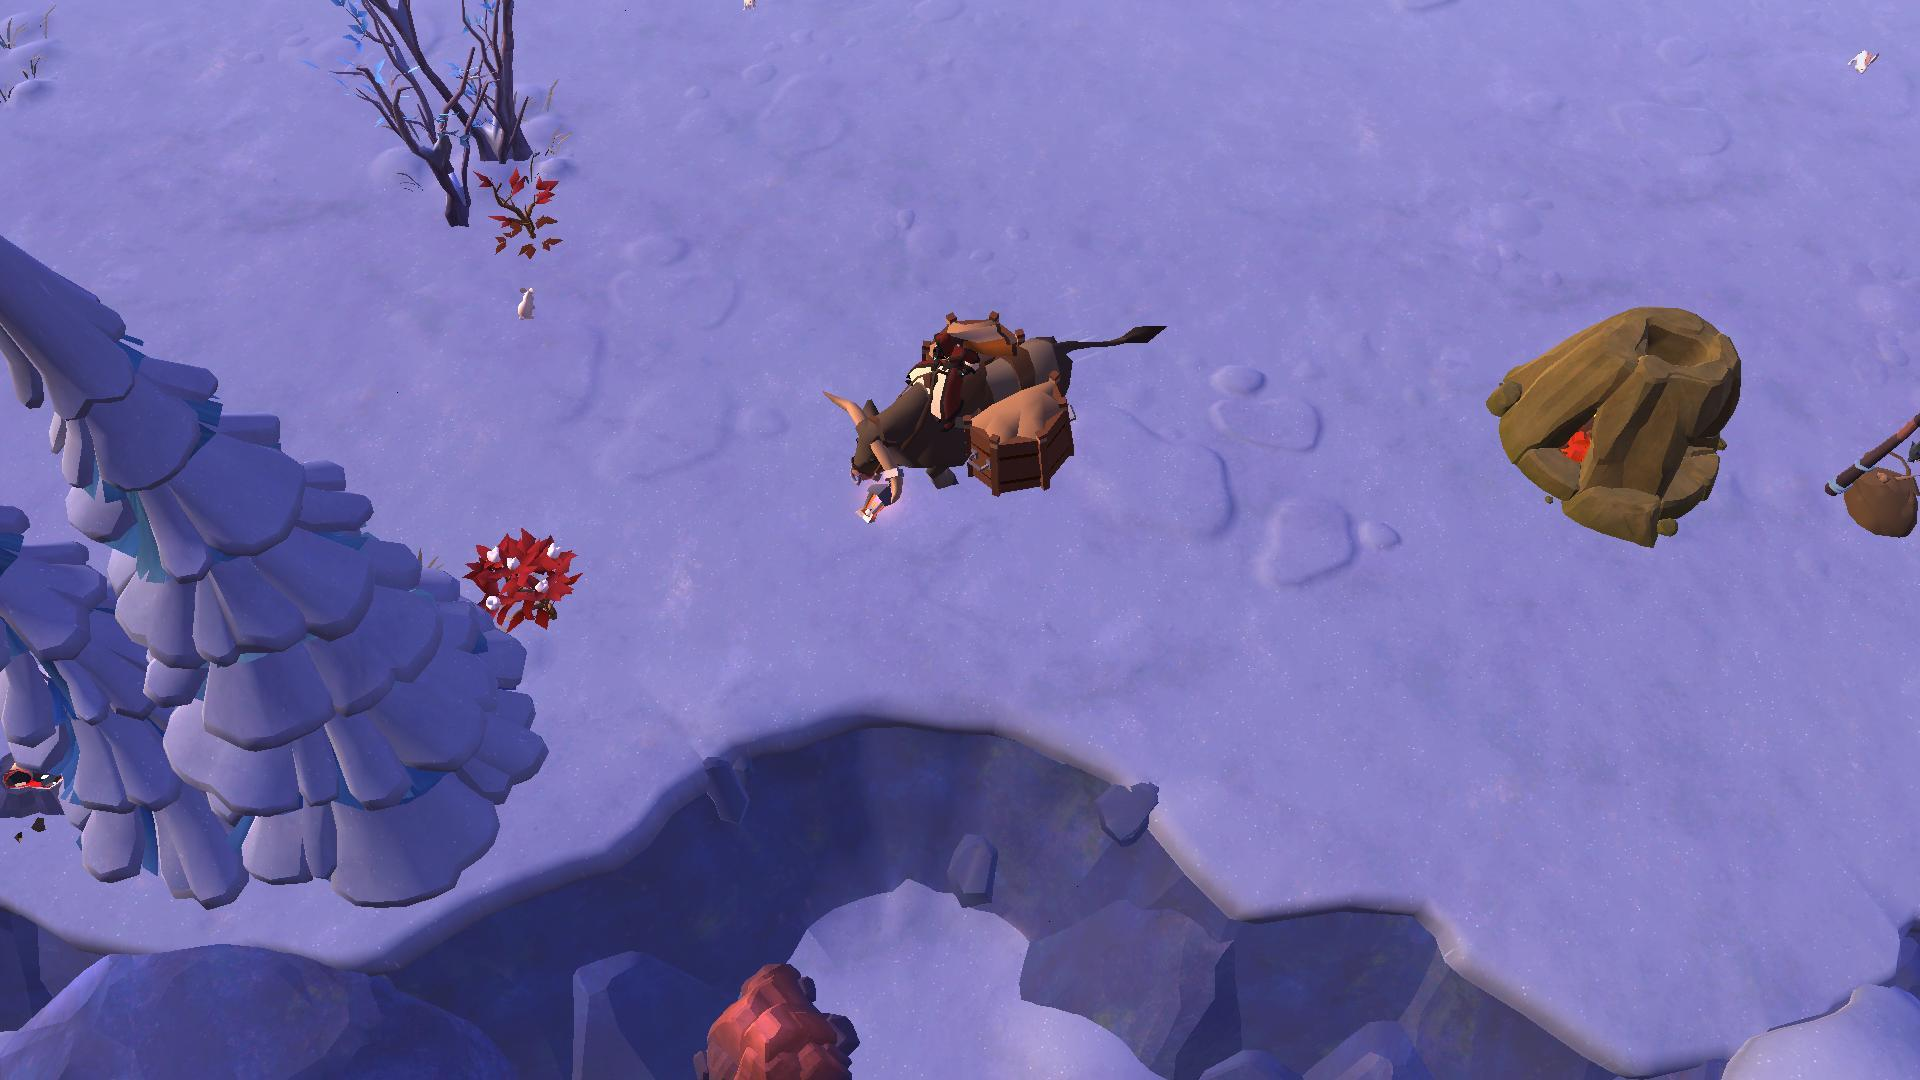fiber_t5: (468, 530, 585, 633)
rock_t5: (684, 960, 860, 1080)
